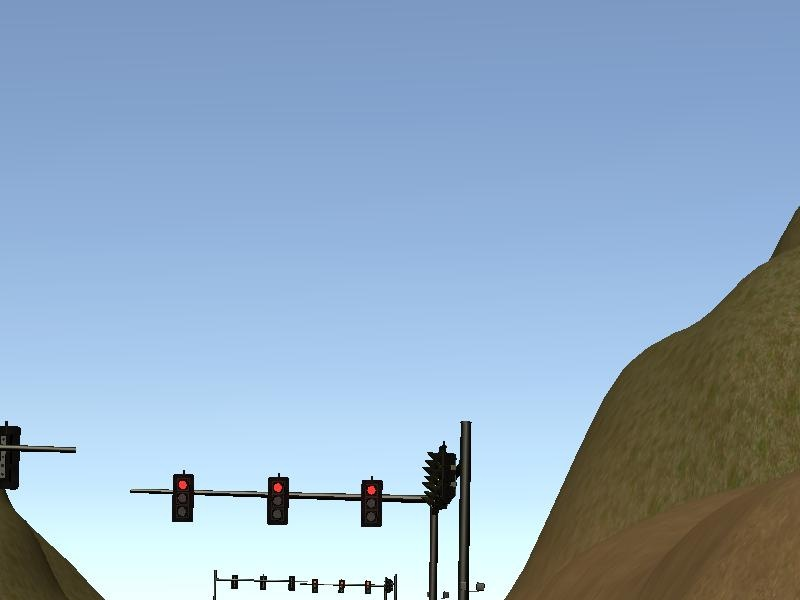red: (359, 475, 384, 531), (169, 472, 195, 523), (267, 476, 293, 527)
